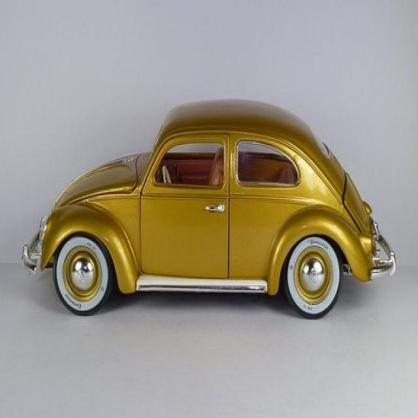car: (22, 99, 398, 316)
